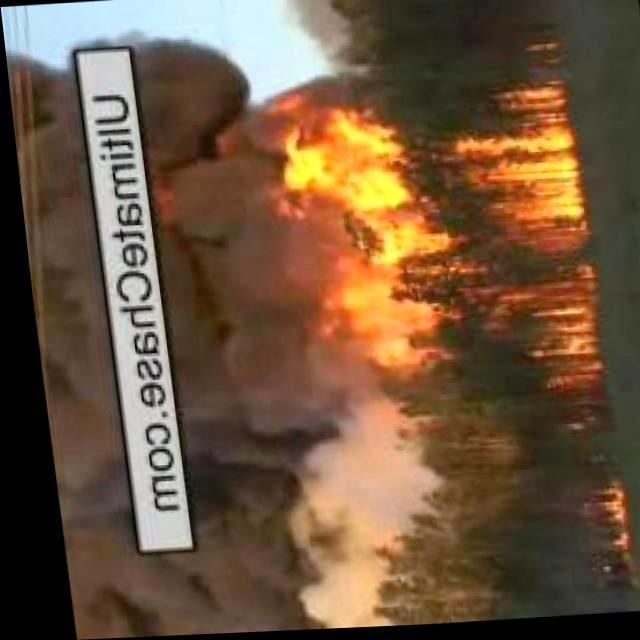fire: (272, 92, 600, 402), (577, 478, 623, 578)
